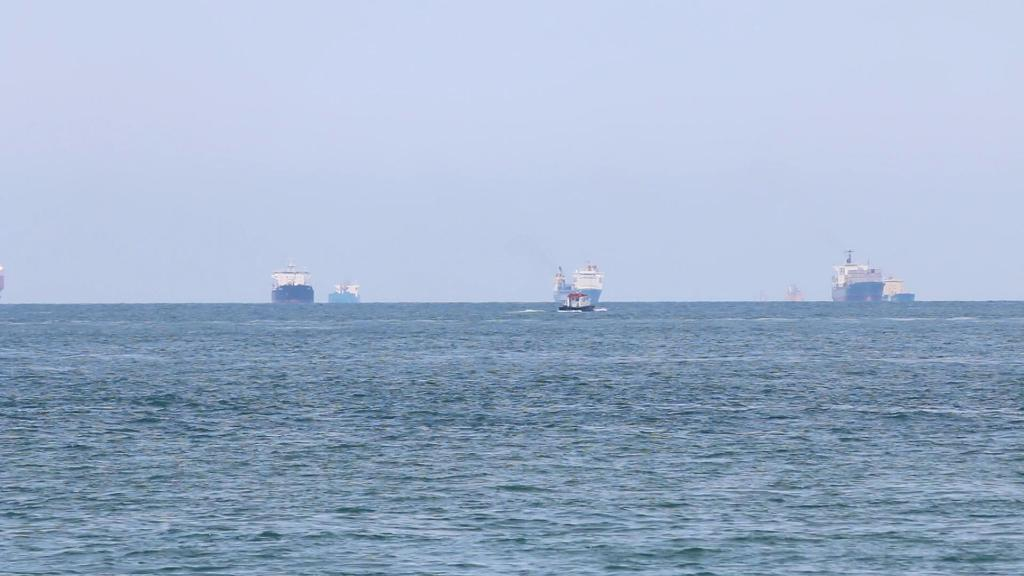PassengerShip: (556, 288, 598, 314)
